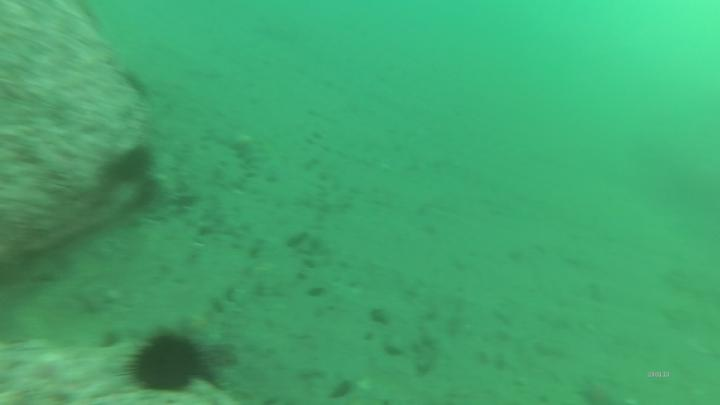echinus: (137, 339, 200, 390), (109, 151, 150, 184)
